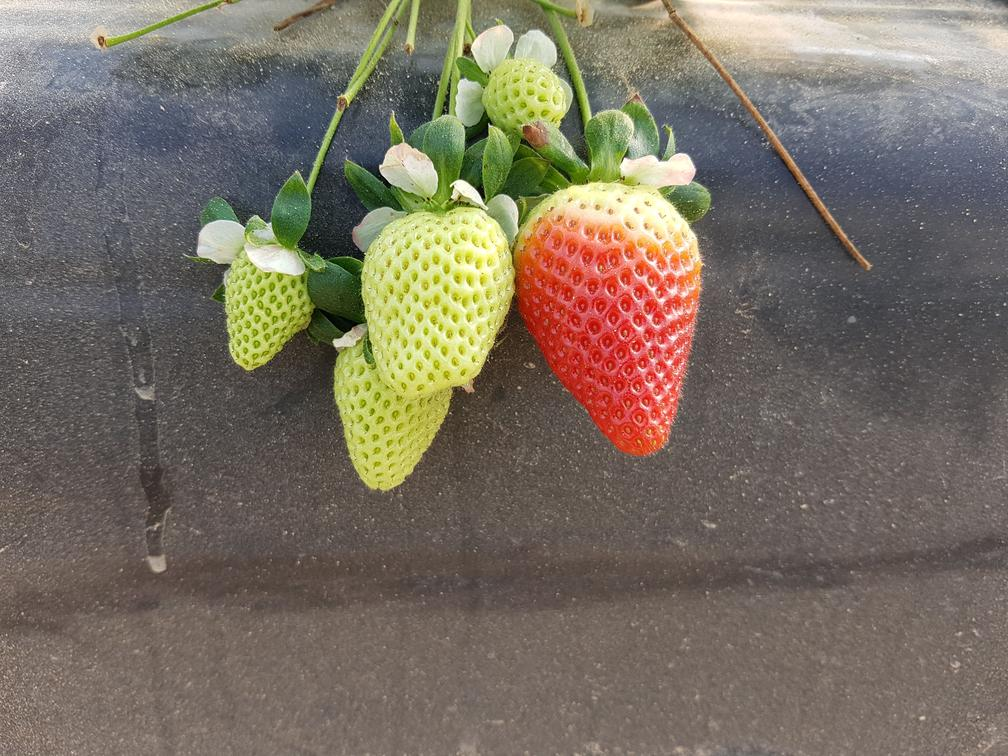Ripe: (515, 176, 701, 461)
Unripe: (361, 204, 514, 391), (334, 348, 459, 490), (216, 239, 320, 375), (485, 51, 573, 132)
